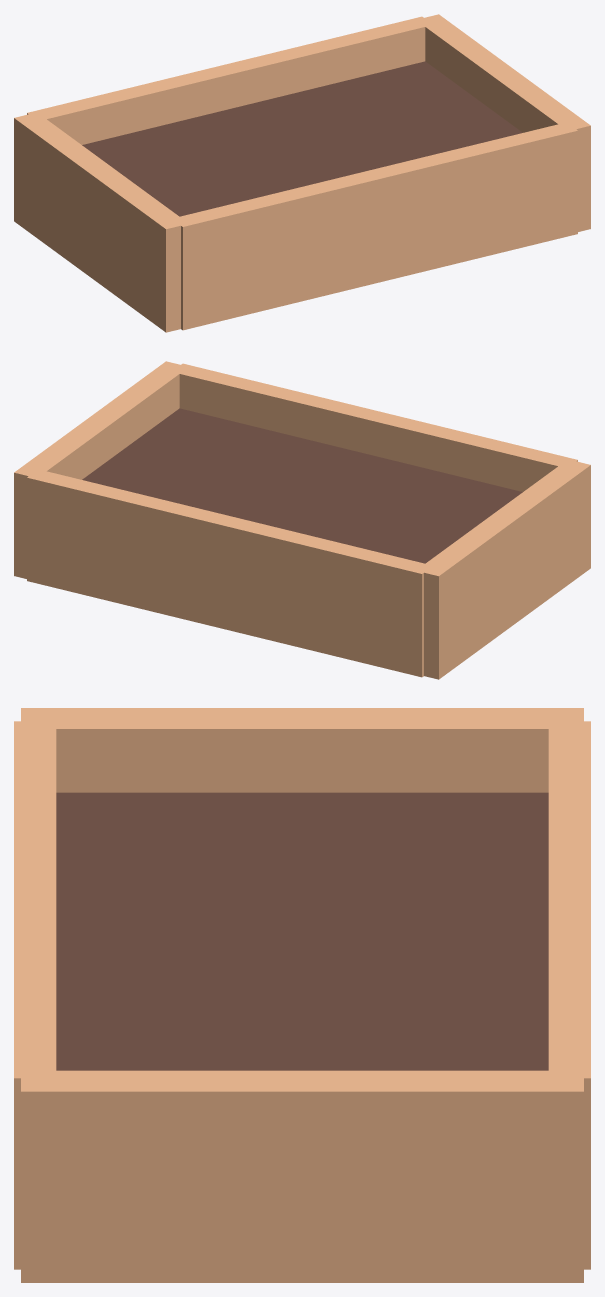
3 renders of one model, top to bottom at view 1: azimuth 30°, elevation 25°; view 2: azimuth 150°, elevation 25°; view 3: azimuth 270°, elevation 25°, orthographic. The views are drawn at different scales.
Visible parts, largest first — view 1: Border.002, Soil, Border, Border.003, Border.001; view 2: Border.003, Soil, Border, Border.002, Border.001; view 3: Soil, Border.001, Border, Border.003, Border.002.
Part boxes in pixels (x1,y1,x2,y2): Border.002: [180, 124, 577, 330]; Soil: [82, 61, 522, 216]; Border: [14, 114, 188, 332]; Border.003: [27, 16, 433, 144]; Border.001: [424, 14, 590, 231]; Border.003: [27, 469, 432, 677]; Soil: [82, 408, 522, 563]; Border: [424, 459, 590, 679]; Border.002: [179, 363, 577, 491]; Border.001: [14, 361, 188, 578]; Soil: [56, 792, 548, 1070]; Border.001: [21, 1070, 583, 1282]; Border: [21, 708, 583, 792]; Border.003: [548, 721, 590, 1269]; Border.002: [14, 721, 56, 1269].
Bounding box in the file's own units: 129 × 30 × 82.
